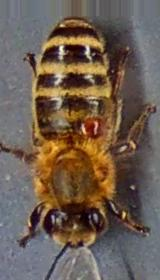varroa_mite: (74, 104, 108, 146)
